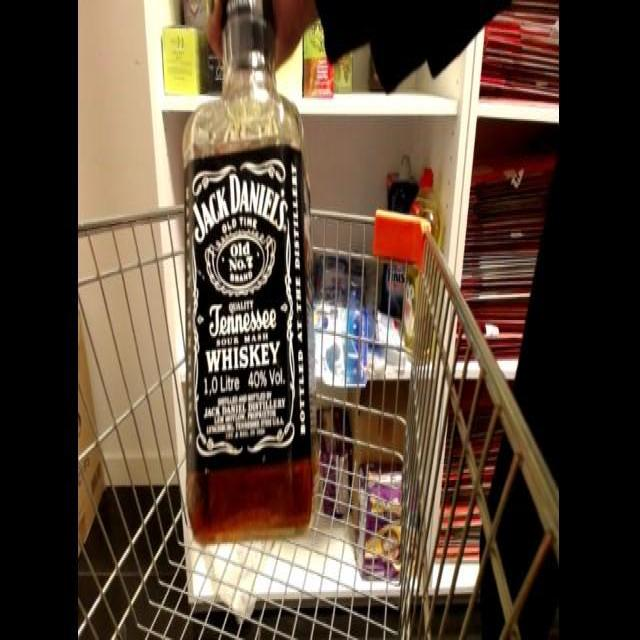Jack Daniels: (175, 0, 315, 549)
